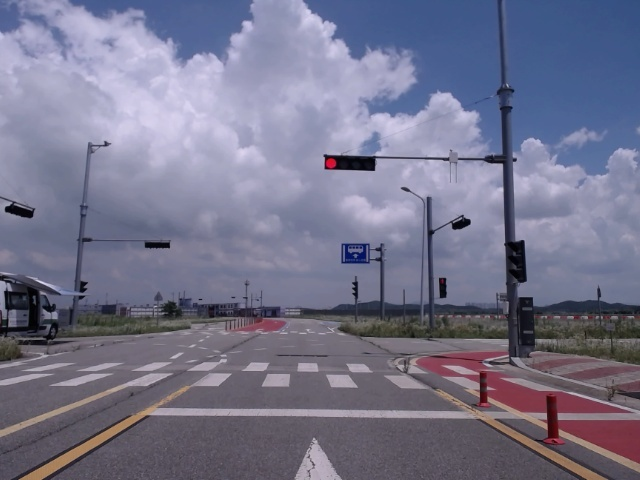red_4: (325, 157, 375, 171)
